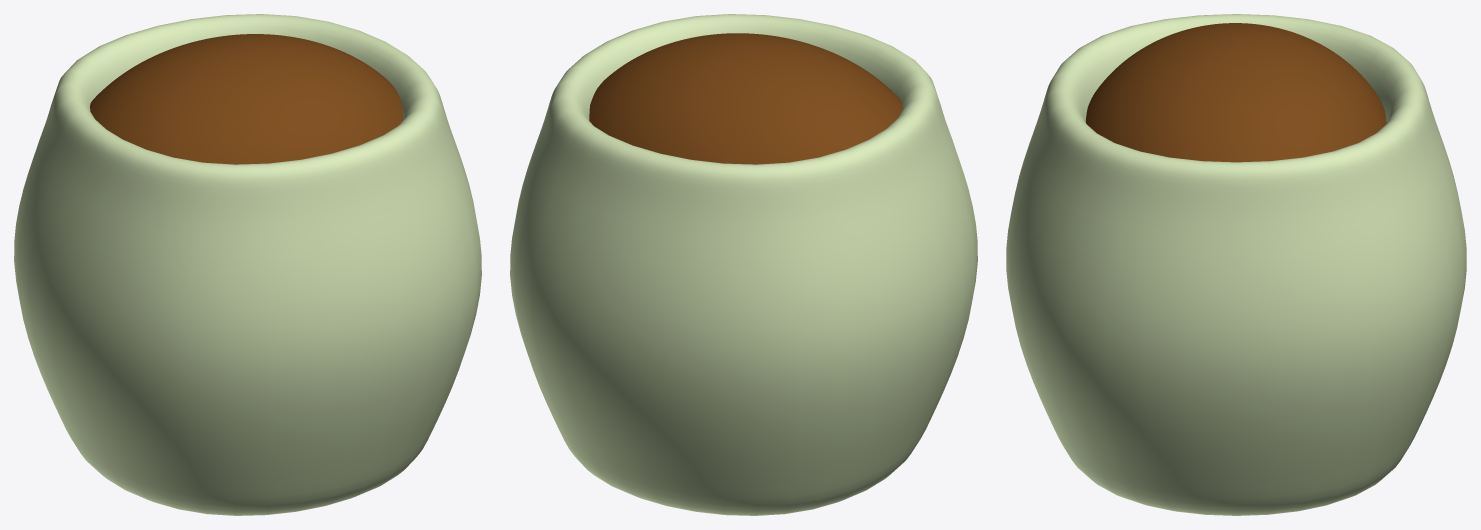
The model's file is mac hibiscus.fbx.
3 views of the same model, side by side, from view 1: azimuth 30°, elevation 25°; view 2: azimuth 150°, elevation 25°; view 3: azimuth 270°, elevation 25° (orthographic).
Visible parts, largest first — view 1: Cube.023, Cube.021; view 2: Cube.023, Cube.021; view 3: Cube.023, Cube.021.
Part boxes in pixels (x1=…): Cube.023: x1=14, y1=14, x2=481, y2=515; Cube.021: x1=90, y1=34, x2=402, y2=164; Cube.023: x1=510, y1=14, x2=977, y2=515; Cube.021: x1=589, y1=33, x2=902, y2=164; Cube.023: x1=1006, y1=14, x2=1466, y2=515; Cube.021: x1=1085, y1=23, x2=1386, y2=162.
Size of the model in its own units: 31.43 by 31.16 by 31.43.
